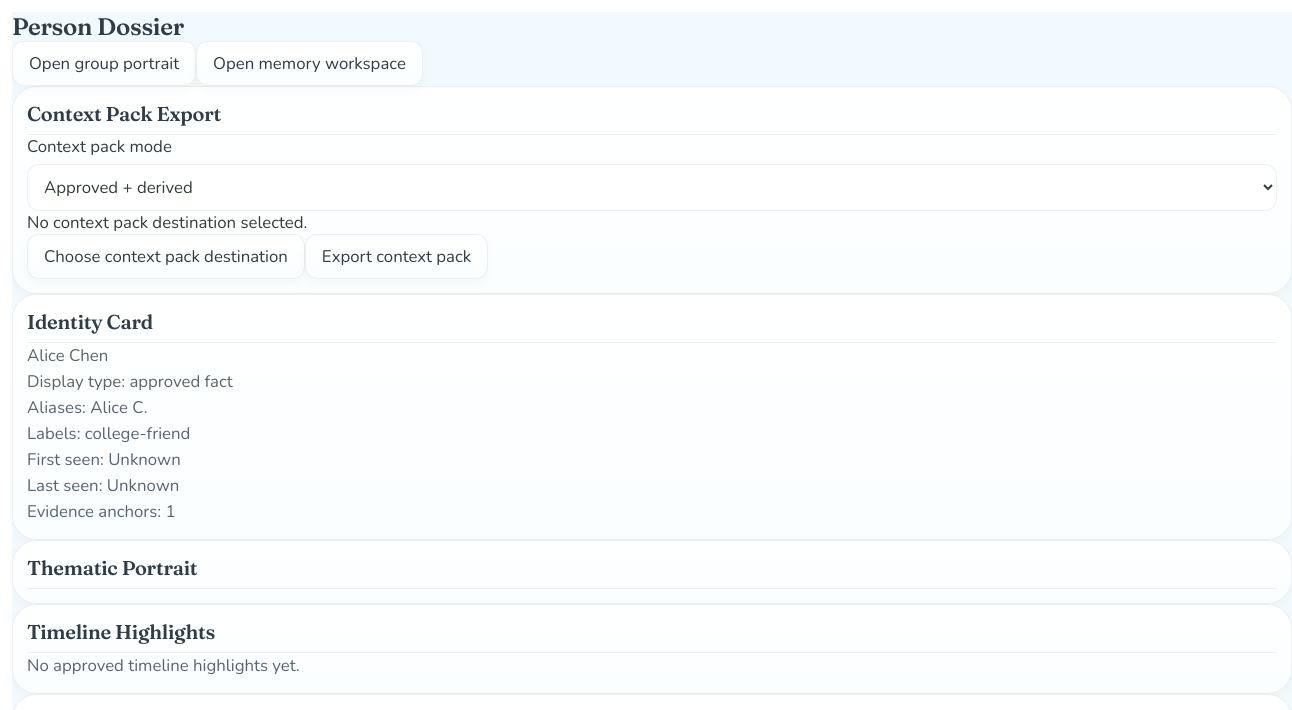
Scenario: PersonDetailPage dossier baseline › exports a person context pack with the selected mode
expect the heading "Person Dossier" is shown: met, box [12,12,184,41]
Select "Approved only" in the dropdown labelled "Context pack mode" at [652, 188], box [27,164,1277,211]
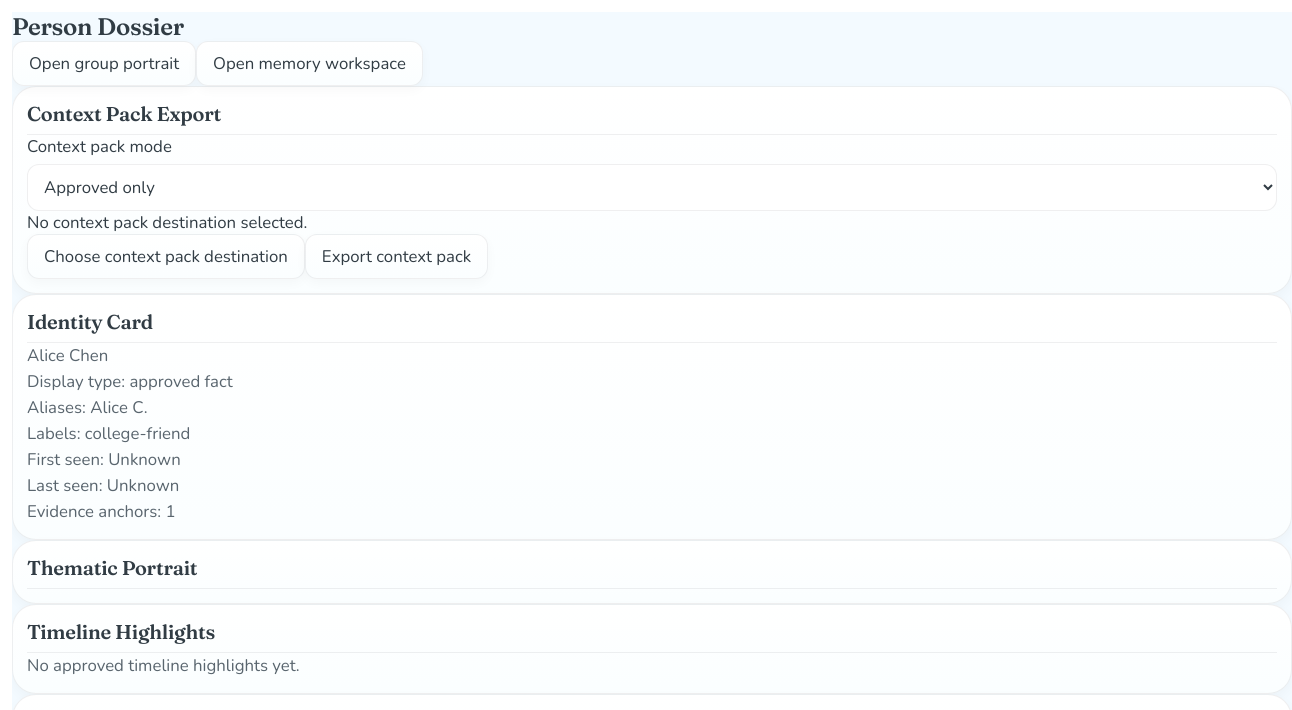
Click the button "Choose context pack destination" at [166, 256], box [27,234,305,279]
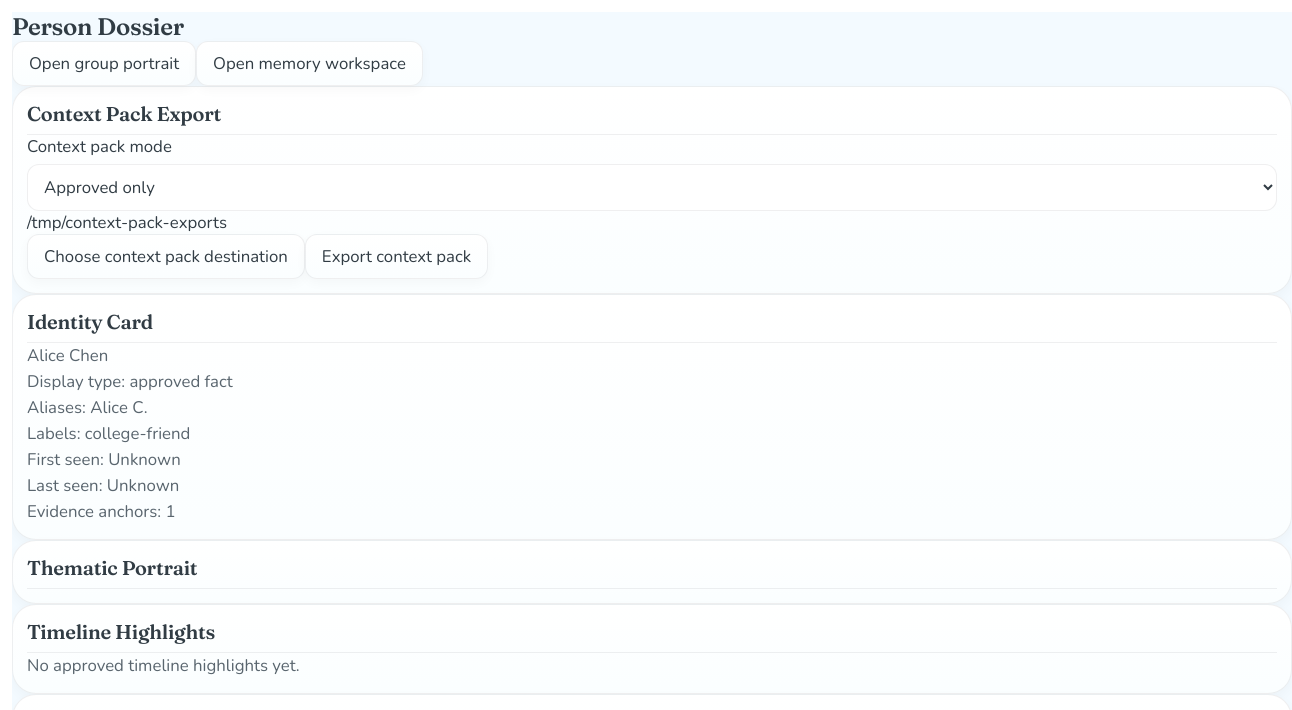
Click the button "Export context pack" at [396, 256], box [305,234,488,279]
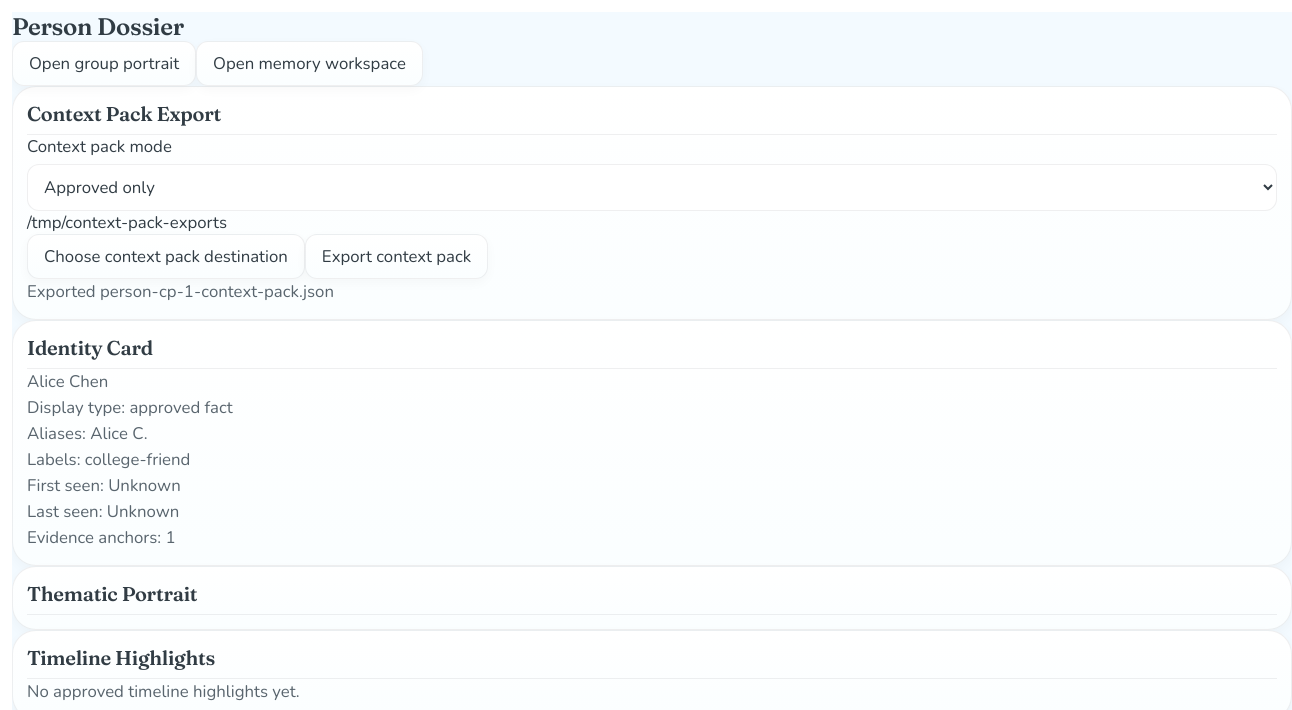
expect the text "Exported person-cp-1-context-pack.json" is shown: met, box [27,280,334,303]
